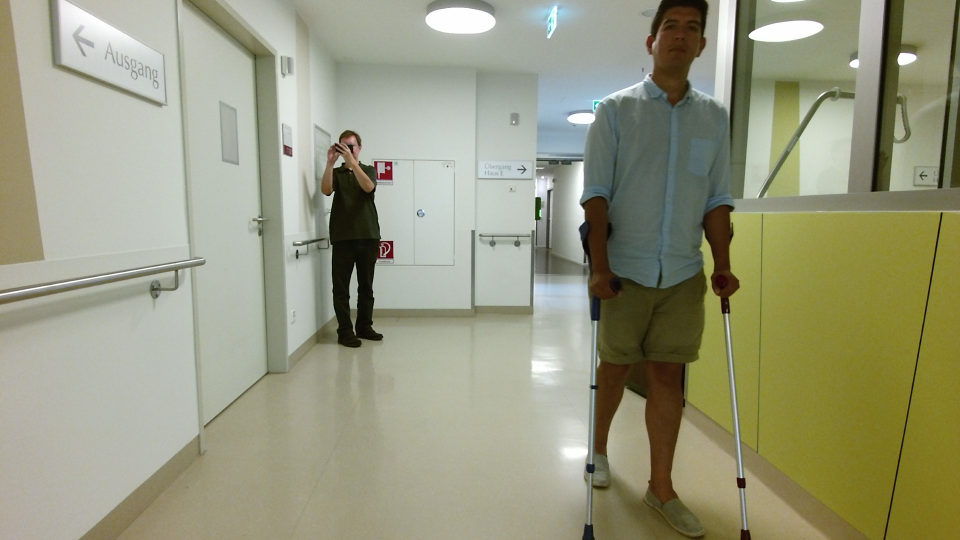crutches: (563, 1, 769, 540)
